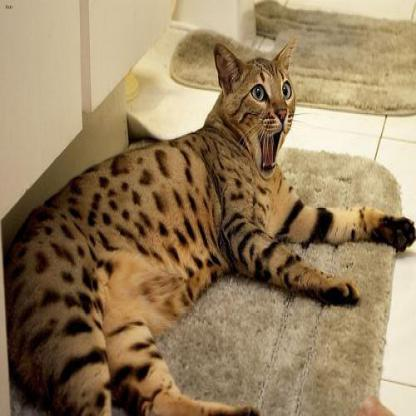cat: (3, 42, 416, 414)
